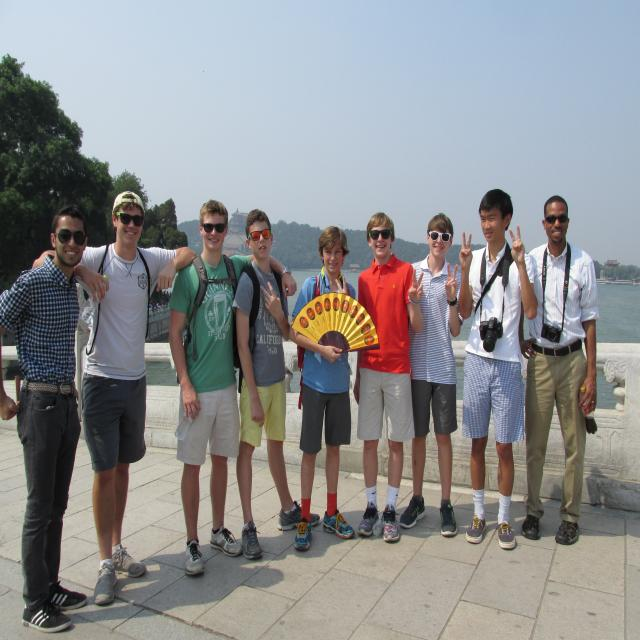body: (31, 189, 200, 613), (168, 199, 298, 576), (0, 202, 90, 636), (230, 206, 322, 561), (454, 186, 542, 553), (514, 190, 601, 548), (344, 209, 428, 545), (286, 225, 358, 553), (398, 212, 465, 538), (146, 287, 174, 312)
